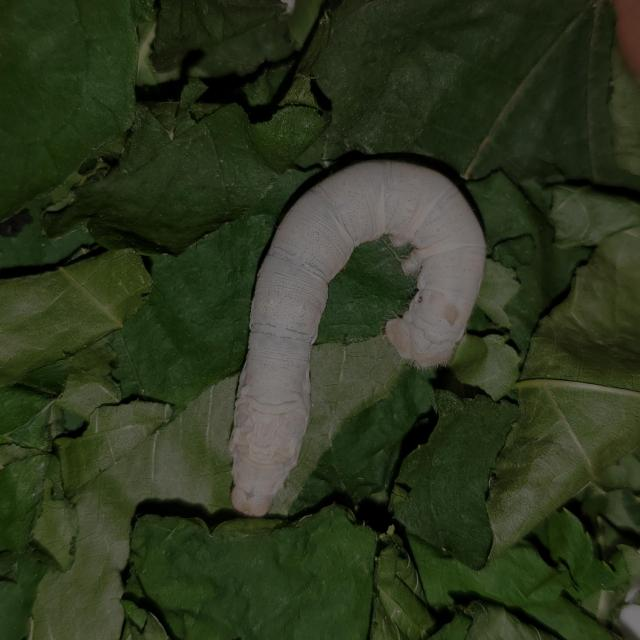Healthy: (219, 151, 490, 526)
